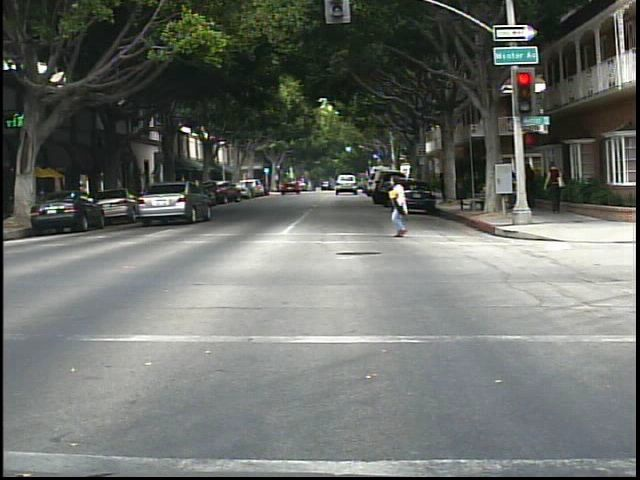person: (383, 173, 420, 241), (544, 158, 569, 219), (522, 158, 544, 216)
